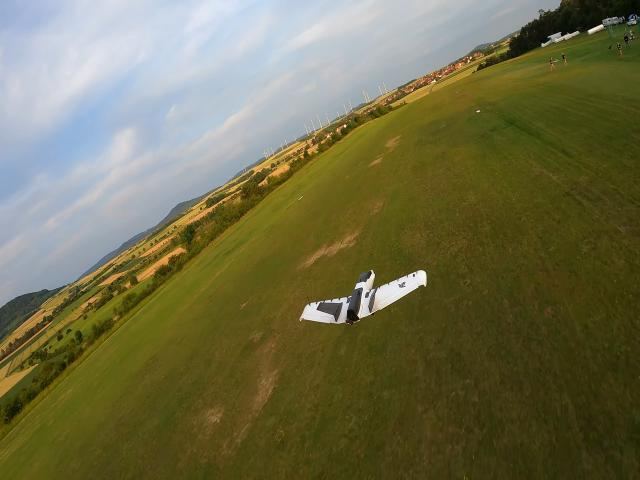plane: (301, 268, 426, 324)
